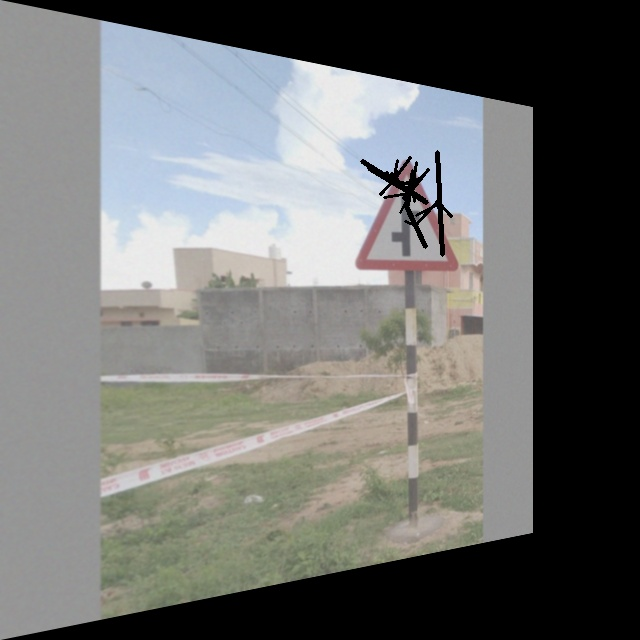Staggered_Intersection: (360, 145, 460, 272)
